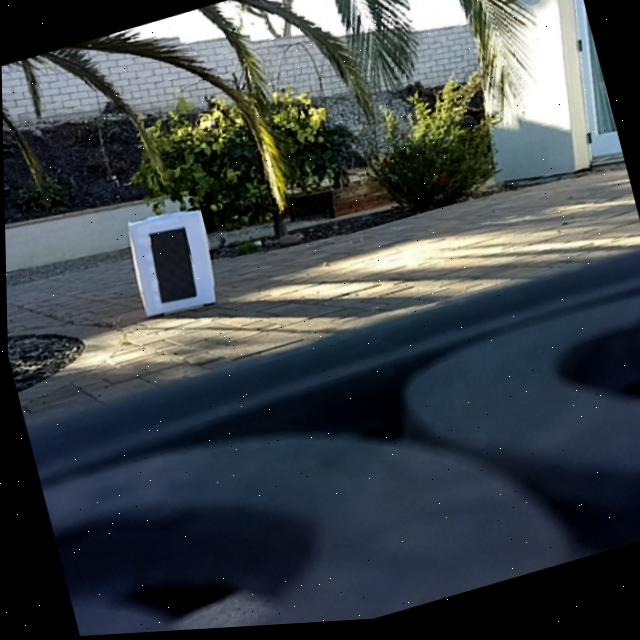led: (145, 225, 200, 308)
